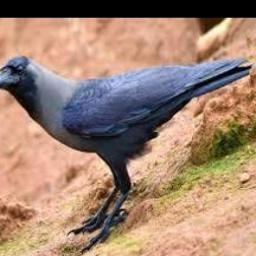Crow: (0, 54, 256, 252)
